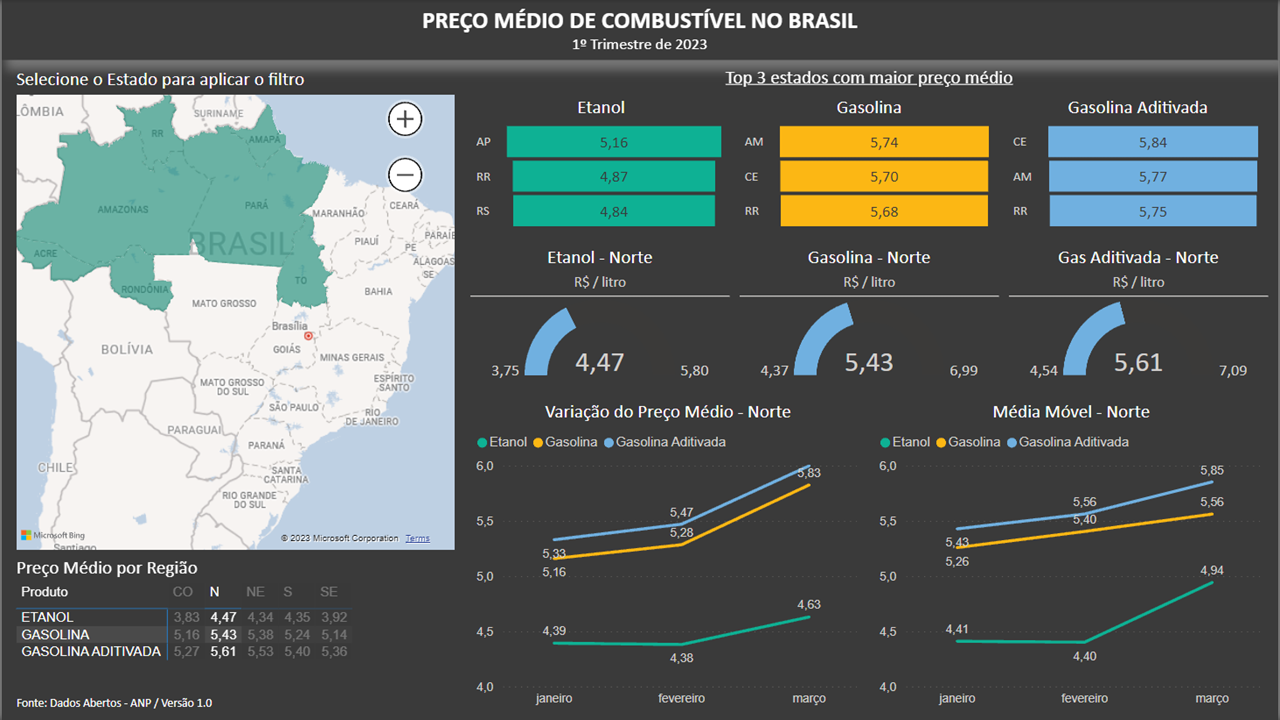

What the dashboard file says about the page in this screenshot:
{"tool":"powerbi","page":{"name":"Preço Médio","canvas":[1280,720],"ordinal":0},"visuals":[{"type":"lineChart","fields":{"Category":["preco_tratado.Data_Coleta.Variation.Hierarquia de datas.Mês","preco_tratado.Data_Coleta.Variation.Hierarquia de datas.Dia"],"Y":["Medidas.MediaNacEtanol","Medidas.MediaNacGasComum","Medidas.MediaNacGasAdit"]},"box":[470.9,395,395,320],"z":0},{"type":"lineChart","fields":{"Y":["Medidas.Média móvel de MediaNacEtanol","Medidas.Média móvel de MediaNacGasComum","Medidas.Média móvel de MediaNacGasAdit"],"Category":["preco_tratado.Data_Coleta.Variation.Hierarquia de datas.Mês","preco_tratado.Data_Coleta.Variation.Hierarquia de datas.Dia"]},"box":[874.9,395,395.1,320],"z":1000},{"type":"filledMap","title":"Selecione o Estado para aplicar o filtro","fields":{"Category":["preco_tratado.Estado"]},"box":[10,65,450,490],"z":2000},{"type":"pivotTable","fields":{"Rows":["preco_tratado.Produto"],"Columns":["preco_tratado.Regiao"],"Values":["Medidas.MediaValorVenda"]},"box":[10,554.7,450,123.7],"z":3000},{"type":"funnel","title":"Gasolina ","fields":{"Category":["TOPMediaGas.Estado"],"Y":["Avg(TOPMediaGas.GAS)"]},"box":[740.2,95,260,140.1],"z":4000},{"type":"textbox","box":[0,0,1280,60],"z":5000},{"type":"funnel","title":"Gasolina Aditivada","fields":{"Category":["TOPMediaGasAdit.Estado"],"Y":["Avg(TOPMediaGasAdit.GAS_ADIT)"]},"box":[1009.6,95,260.7,140.1],"z":6000},{"type":"funnel","title":"Etanol","fields":{"Category":["TOPMediaEtanol.Estado"],"Y":["Avg(TOPMediaEtanol.ETANOL)"]},"box":[470.8,95,260.7,140.1],"z":7000},{"type":"textbox","title":"Top 3 estados com maior preço médio","box":[470.2,65,800.1,30],"z":8000},{"type":"textbox","box":[10,690,225.5,25.9],"z":9000},{"type":"textbox","box":[470,245.1,260,52],"z":10000},{"type":"gauge","fields":{"Y":["Medidas.MediaNacEtanol"],"MinValue":["Medidas.MinMediaNacEtanol"],"MaxValue":["Medidas.MaxMediaNacEtanol"]},"box":[470,297.6,259.7,87.5],"z":11000},{"type":"textbox","box":[740,245,260,52],"z":12000},{"type":"gauge","fields":{"Y":["Medidas.MediaNacGasComum"],"MinValue":["Medidas.MinMediaNacGas"],"MaxValue":["Medidas.MaxMediaNacGas"]},"box":[740,297,259.7,87.5],"z":13000},{"type":"textbox","box":[1010.7,245,260,52],"z":14000},{"type":"gauge","fields":{"Y":["Medidas.MediaNacGasAdit"],"MinValue":["Medidas.MinMediaNacGasAdt"],"MaxValue":["Medidas.MaxMediaNacGasAdt"]},"box":[1010.7,297,259.7,87.5],"z":15000}]}

Visuals, with their boxes in screenshot pixels (x1, y1, x2, y2), scaled from the page's 1280x720 canvas onto the 1280x720 screenshot:
lineChart - preco_tratado.Data_Coleta.Variation.Hierarquia de datas.Mês x preco_tratado.Data_Coleta.Variation.Hierarquia de datas.Dia: select_region(471, 395, 866, 715)
lineChart - Medidas.Média móvel de MediaNacEtanol x Medidas.Média móvel de MediaNacGasComum: select_region(875, 395, 1270, 715)
"Selecione o Estado para aplicar o filtro" filledMap: select_region(10, 65, 460, 555)
pivotTable - preco_tratado.Produto x preco_tratado.Regiao: select_region(10, 555, 460, 678)
"Gasolina " funnel: select_region(740, 95, 1000, 235)
textbox: select_region(0, 0, 1279, 60)
"Gasolina Aditivada" funnel: select_region(1010, 95, 1270, 235)
"Etanol" funnel: select_region(471, 95, 732, 235)
"Top 3 estados com maior preço médio" textbox: select_region(470, 65, 1270, 95)
textbox: select_region(10, 690, 236, 716)
textbox: select_region(470, 245, 730, 297)
gauge - Medidas.MediaNacEtanol x Medidas.MinMediaNacEtanol: select_region(470, 298, 730, 385)
textbox: select_region(740, 245, 1000, 297)
gauge - Medidas.MediaNacGasComum x Medidas.MinMediaNacGas: select_region(740, 297, 1000, 384)
textbox: select_region(1011, 245, 1271, 297)
gauge - Medidas.MediaNacGasAdit x Medidas.MinMediaNacGasAdt: select_region(1011, 297, 1270, 384)
